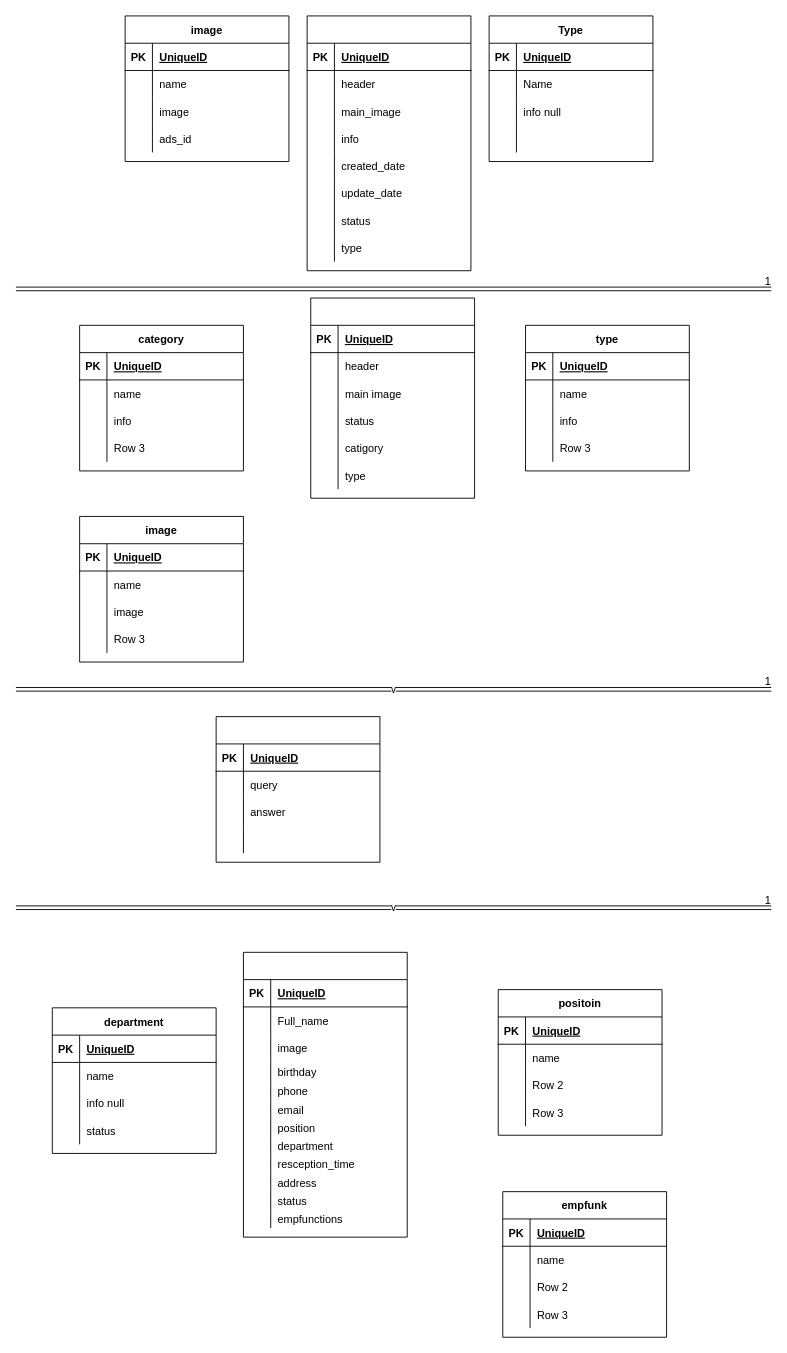
This 787x1353 diagram has some shape labels left out. The box of each missing label's shape, as (x1, y1, x2, y2) in pixels:
ads: (306, 15, 471, 271)
Employee: (243, 951, 407, 1237)
Faq: (215, 716, 380, 862)
New: (310, 297, 475, 498)
